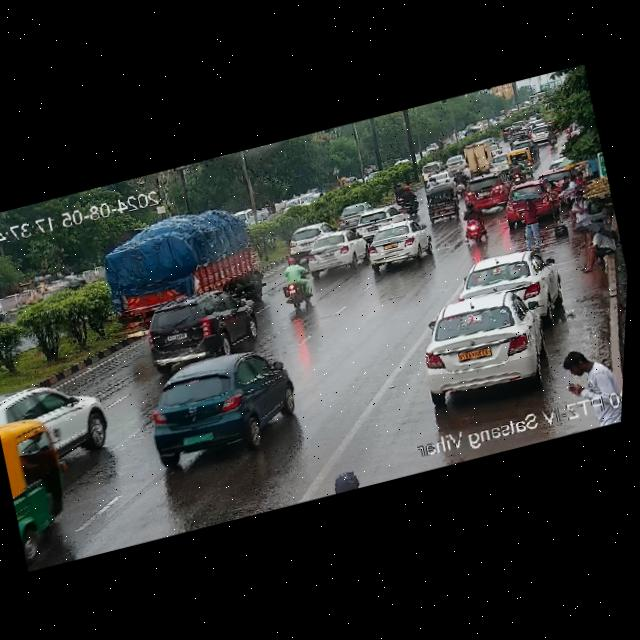car: (134, 339, 311, 469), (411, 282, 558, 406), (0, 367, 123, 477), (128, 278, 264, 374), (0, 413, 83, 564), (455, 242, 563, 325), (360, 216, 436, 271), (299, 226, 373, 278), (500, 176, 563, 228), (350, 200, 411, 238), (464, 170, 511, 212), (420, 181, 464, 222), (499, 146, 540, 181), (524, 122, 555, 146)
motorcycle: (268, 252, 317, 313), (456, 204, 491, 246), (388, 182, 421, 218), (0, 286, 17, 335)
person: (556, 335, 625, 432)
truck: (91, 195, 270, 326), (459, 137, 497, 175)
